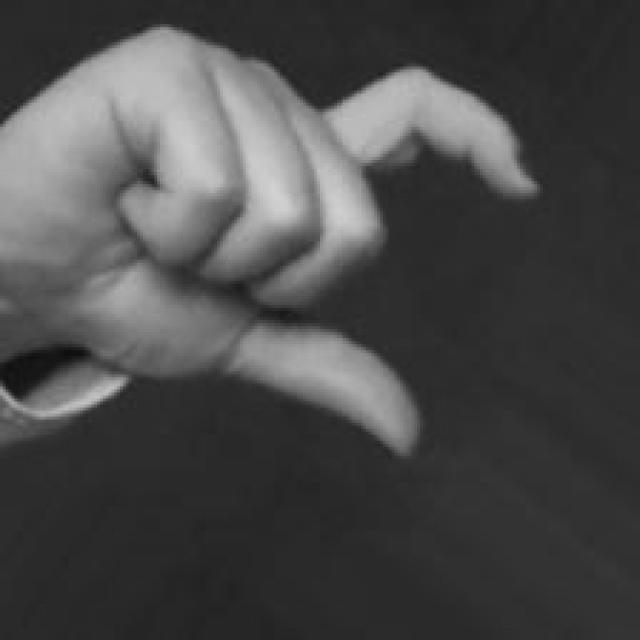C: (6, 21, 546, 464)
